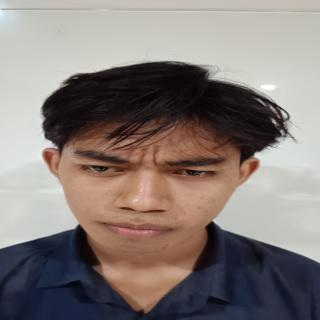Marah: (53, 114, 243, 260)
